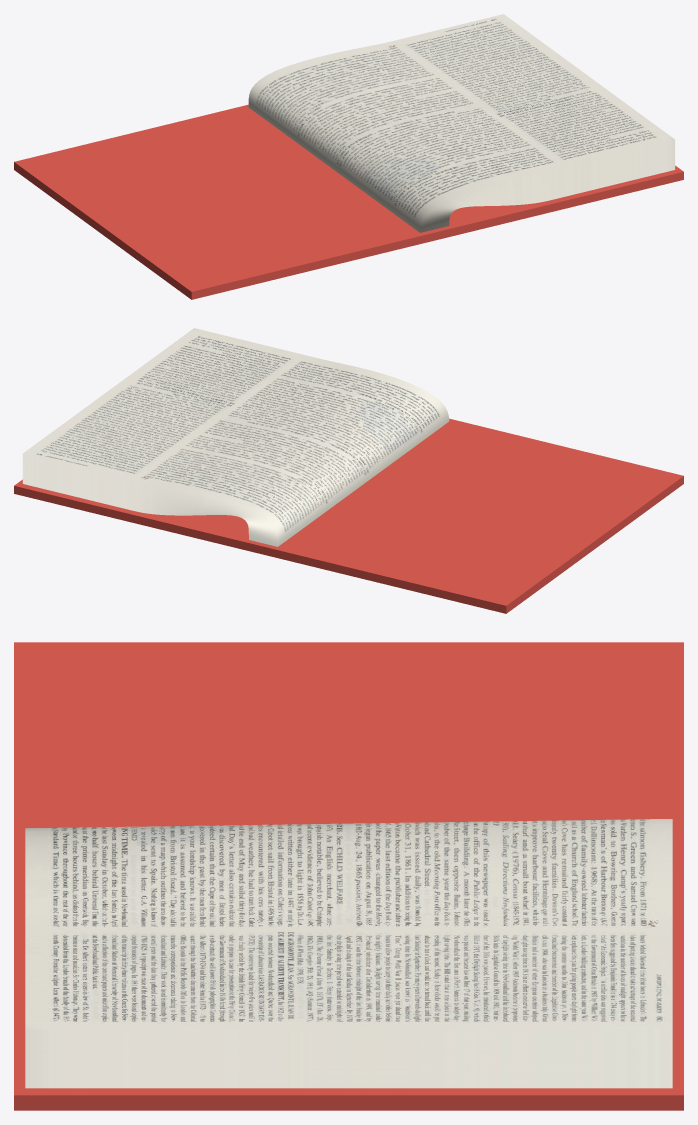
The model's file is Book.glb.
3 views of the same model, one above another, from view 1: azimuth 30°, elevation 25°; view 2: azimuth 150°, elevation 25°; view 3: azimuth 270°, elevation 25° (orthographic). The views are drawn at different scales.
Visible parts, largest first — view 1: Plane.050, Cover_L, Cover_R, Spine; view 2: Plane.050, Cover_L, Cover_R, Spine; view 3: Plane.050, Cover_L, Cover_R, Plane, Plane.002, Plane.003, Plane.004, Plane.005, Plane.006, Plane.007, Plane.010, Plane.011 (+32 smaller).
Boxes of the visible parts, x1,y1,x2,y2 form: Plane.050: [248, 14, 674, 232]; Cover_L: [14, 105, 422, 299]; Cover_R: [449, 165, 683, 235]; Spine: [245, 104, 453, 243]; Plane.050: [23, 328, 449, 546]; Cover_L: [275, 419, 683, 613]; Cover_R: [14, 479, 248, 549]; Spine: [244, 418, 452, 557]; Plane.050: [25, 819, 672, 1031]; Cover_L: [14, 642, 683, 854]; Cover_R: [14, 883, 683, 1110]; Plane: [25, 1087, 672, 1088]; Plane.002: [25, 1084, 672, 1085]; Plane.003: [25, 1083, 672, 1084]; Plane.004: [25, 1082, 672, 1083]; Plane.005: [25, 1081, 672, 1082]; Plane.006: [25, 1080, 672, 1081]; Plane.007: [25, 1079, 672, 1080]; Plane.010: [25, 1075, 672, 1076]; Plane.011: [25, 1074, 672, 1075].
Bounding box in the file's own units: 3.2 × 0.2575 × 2.
Materials: 2 (1 with a texture image).
